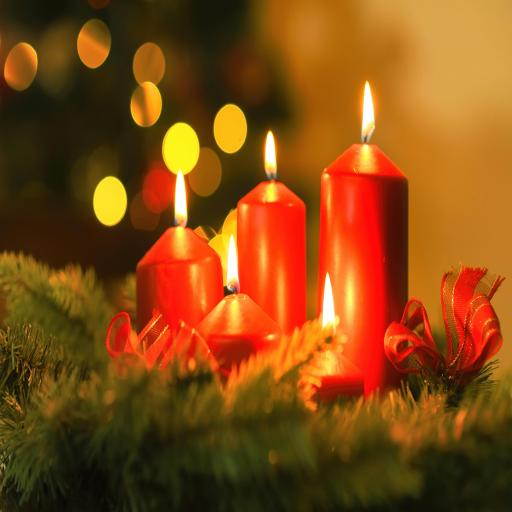candlelight: (321, 82, 419, 366), (242, 116, 314, 338), (141, 158, 218, 346), (207, 222, 272, 382), (307, 273, 365, 422)
